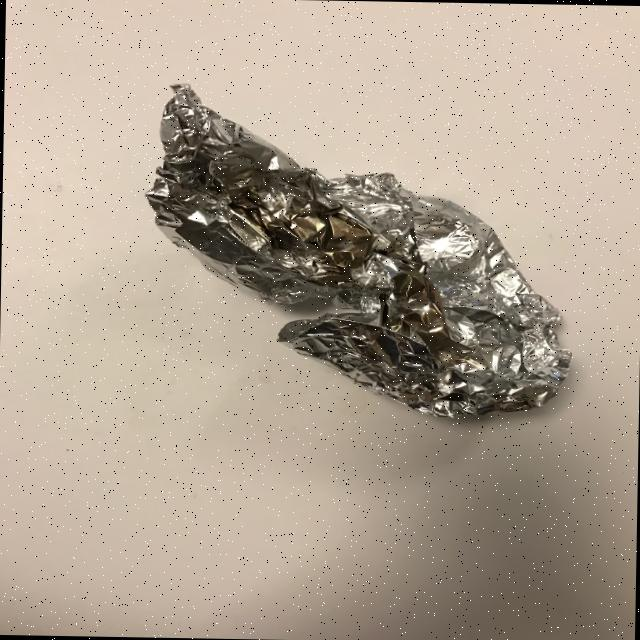metal: (140, 81, 576, 420)
